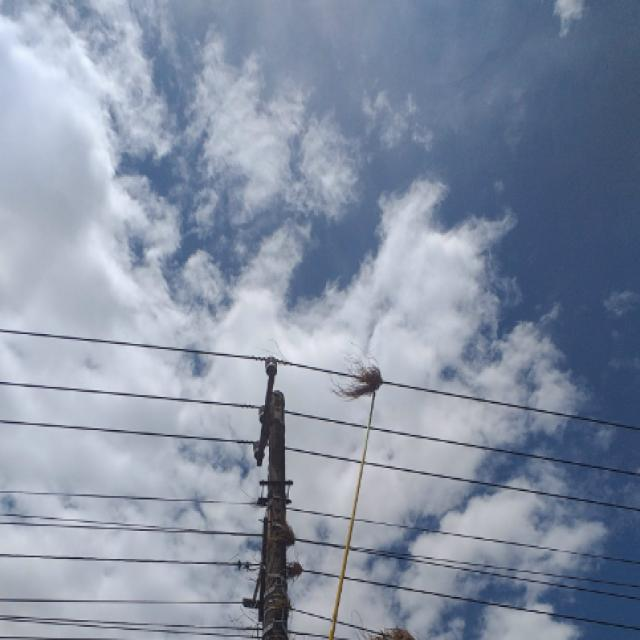杆塔: (232, 350, 305, 640)
植被遮挡: (330, 361, 386, 404)
